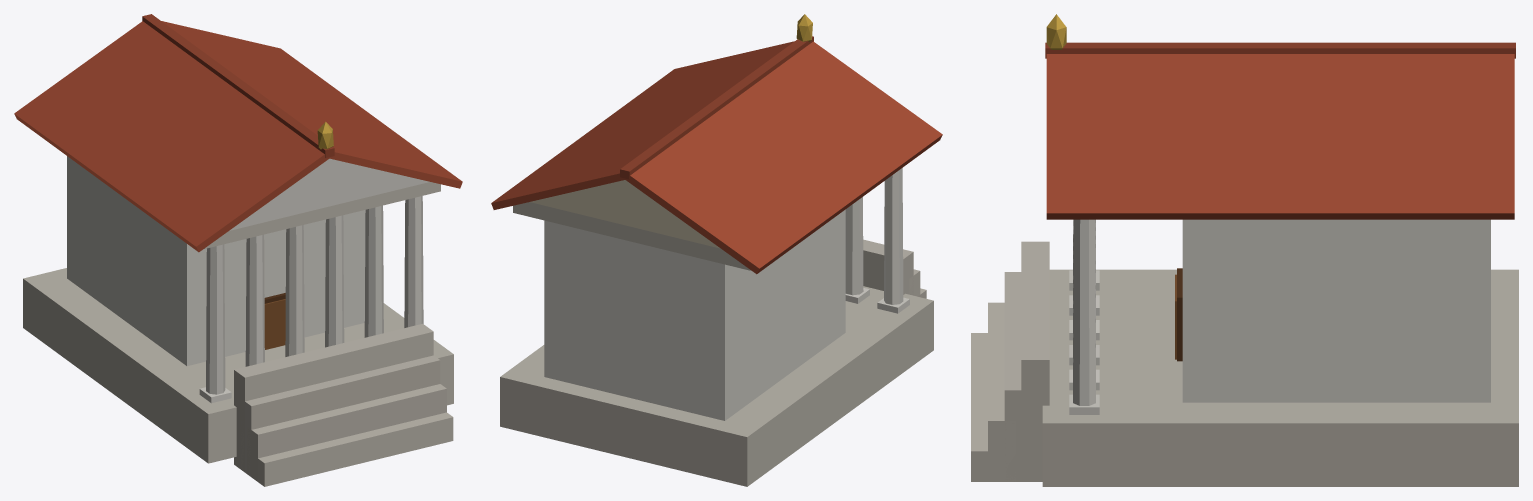
Rendered from angel_landmark_broken.glb.
3 views of the same model, side by side, from view 1: azimuth 30°, elevation 25°; view 2: azimuth 150°, elevation 25°; view 3: azimuth 270°, elevation 25° (orthographic). The views are drawn at different scales.
Parts seen in each view (by area): view 1: angel_landmark_piece2, angel_landmark_piece3, angel_landmark_piece8, angel_landmark_piece5, angel_landmark_piece1, angel_landmark_piece13, angel_landmark_piece0, angel_landmark_piece7, angel_landmark_piece9, angel_landmark_piece4, angel_landmark_piece11, angel_landmark_piece10 (+1 smaller); view 2: angel_landmark_piece1, angel_landmark_piece3, angel_landmark_piece2, angel_landmark_piece8, angel_landmark_piece13, angel_landmark_piece0, angel_landmark_piece7, angel_landmark_piece4, angel_landmark_piece5, angel_landmark_piece11, angel_landmark_piece12; view 3: angel_landmark_piece4, angel_landmark_piece0, angel_landmark_piece9, angel_landmark_piece1, angel_landmark_piece3, angel_landmark_piece13, angel_landmark_piece5, angel_landmark_piece7, angel_landmark_piece2, angel_landmark_piece10, angel_landmark_piece12, angel_landmark_piece8.
Boxes of the visible parts, x1,y1,x2,y2 form: angel_landmark_piece2: (125,123,411,486); angel_landmark_piece3: (14,14,284,324); angel_landmark_piece8: (77,160,229,438); angel_landmark_piece5: (284,121,453,450); angel_landmark_piece1: (23,31,296,365); angel_landmark_piece13: (164,73,393,259); angel_landmark_piece0: (248,102,462,350); angel_landmark_piece7: (174,247,327,470); angel_landmark_piece9: (281,253,404,342); angel_landmark_piece4: (271,60,374,117); angel_landmark_piece11: (106,145,274,291); angel_landmark_piece10: (274,237,453,405); angel_landmark_piece1: (491,175,804,486); angel_landmark_piece3: (547,109,829,378); angel_landmark_piece2: (773,50,942,345); angel_landmark_piece8: (788,172,904,442); angel_landmark_piece13: (587,80,806,158); angel_landmark_piece0: (605,57,782,119); angel_landmark_piece7: (845,271,933,374); angel_landmark_piece4: (508,120,658,368); angel_landmark_piece5: (724,14,825,69); angel_landmark_piece11: (802,146,846,200); angel_landmark_piece12: (590,114,694,157); angel_landmark_piece4: (1228,113,1498,486); angel_landmark_piece0: (1046,42,1223,486); angel_landmark_piece9: (1089,243,1285,486); angel_landmark_piece1: (1423,117,1518,486); angel_landmark_piece3: (1304,42,1515,181); angel_landmark_piece13: (1100,42,1307,469); angel_landmark_piece5: (971,14,1147,481); angel_landmark_piece7: (997,268,1182,481); angel_landmark_piece2: (971,219,1095,422); angel_landmark_piece10: (1016,283,1182,486); angel_landmark_piece12: (1292,55,1401,147); angel_landmark_piece8: (1117,269,1176,298).
Bounding box in the file's own units: 2.82 × 3.22 × 3.91.
